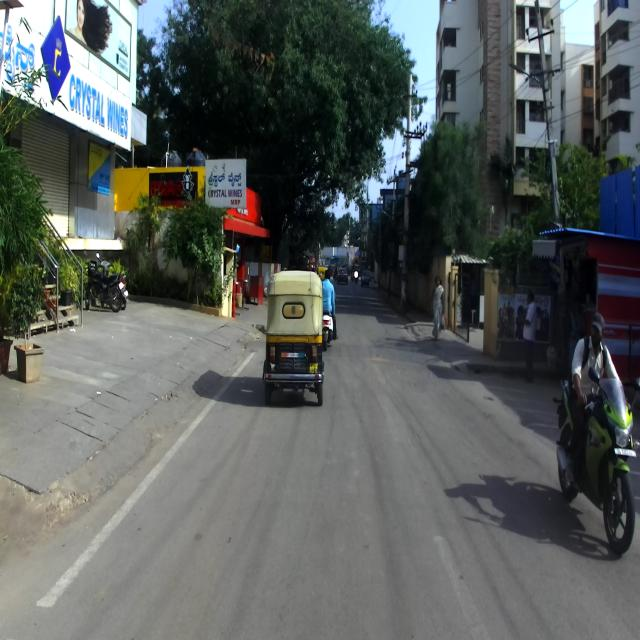auto ahead at: (265, 267, 326, 406)
motorcycle ahead at: (556, 368, 636, 564)
